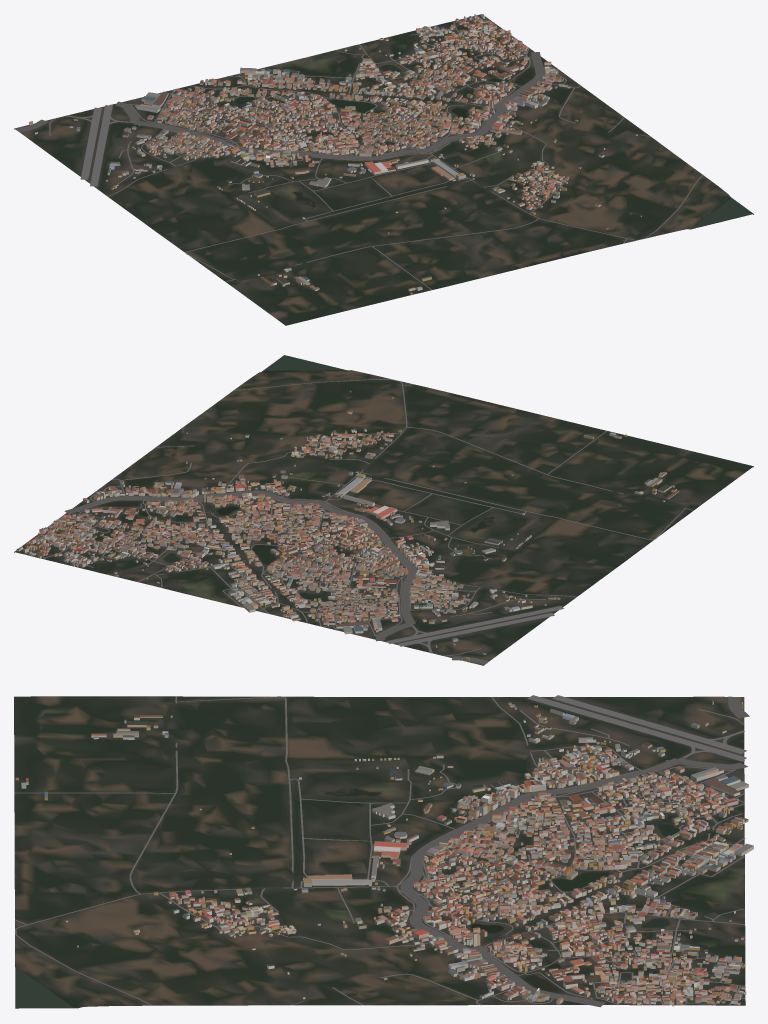
The picture shows the model from 3 angles, top to bottom: view 1: azimuth 30°, elevation 25°; view 2: azimuth 150°, elevation 25°; view 3: azimuth 270°, elevation 25°; orthographic projection. The views are drawn at different scales.
Visible parts, largest first — view 1: ground, buildings, roads, water; view 2: ground, buildings, roads, water; view 3: ground, buildings, roads, water.
Boxes of the visible parts, x1,y1,x2,y2 form: ground: [14, 14, 753, 325]; buildings: [29, 14, 641, 294]; roads: [15, 16, 702, 290]; water: [235, 65, 752, 228]; ground: [14, 355, 753, 665]; buildings: [16, 390, 679, 661]; roads: [23, 379, 693, 664]; water: [110, 355, 494, 599]; ground: [14, 696, 745, 1008]; buildings: [15, 700, 753, 1006]; roads: [14, 695, 749, 1007]; water: [15, 788, 679, 1007].
Size of the model in its own units: 1419 by 34.39 by 1421.
